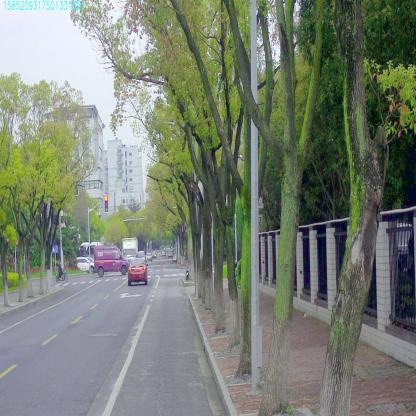traffic-light: (104, 195, 108, 212)
